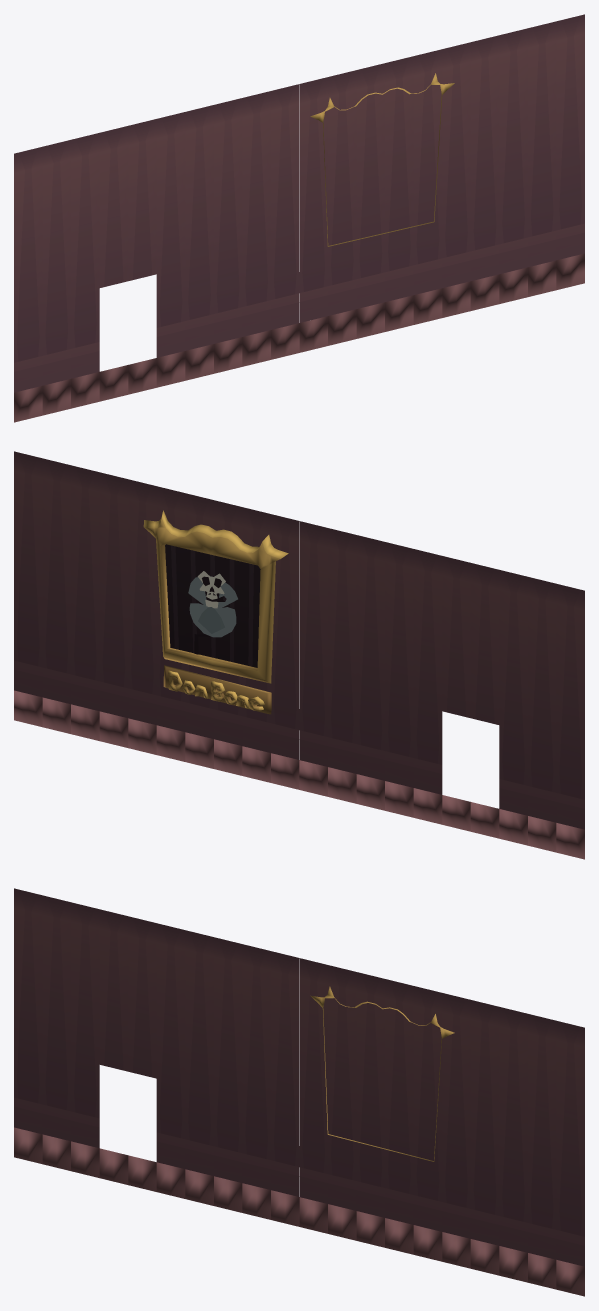
The model's file is SM_BossDoorRoom.fbx.
3 views of the same model, one above another, from view 1: azimuth 30°, elevation 25°; view 2: azimuth 150°, elevation 25°; view 3: azimuth 330°, elevation 25° (orthographic).
Visible parts, largest first — view 1: SM_BackgroundPlane.009; view 2: SM_BackgroundPlane.009; view 3: SM_BackgroundPlane.009.
Boxes of the visible parts, x1,y1,x2,y2 form: SM_BackgroundPlane.009: (14, 14, 584, 422); SM_BackgroundPlane.009: (14, 451, 584, 859); SM_BackgroundPlane.009: (14, 888, 584, 1296).
Bounding box in the file's own units: 2000 × 37.43 × 900.
